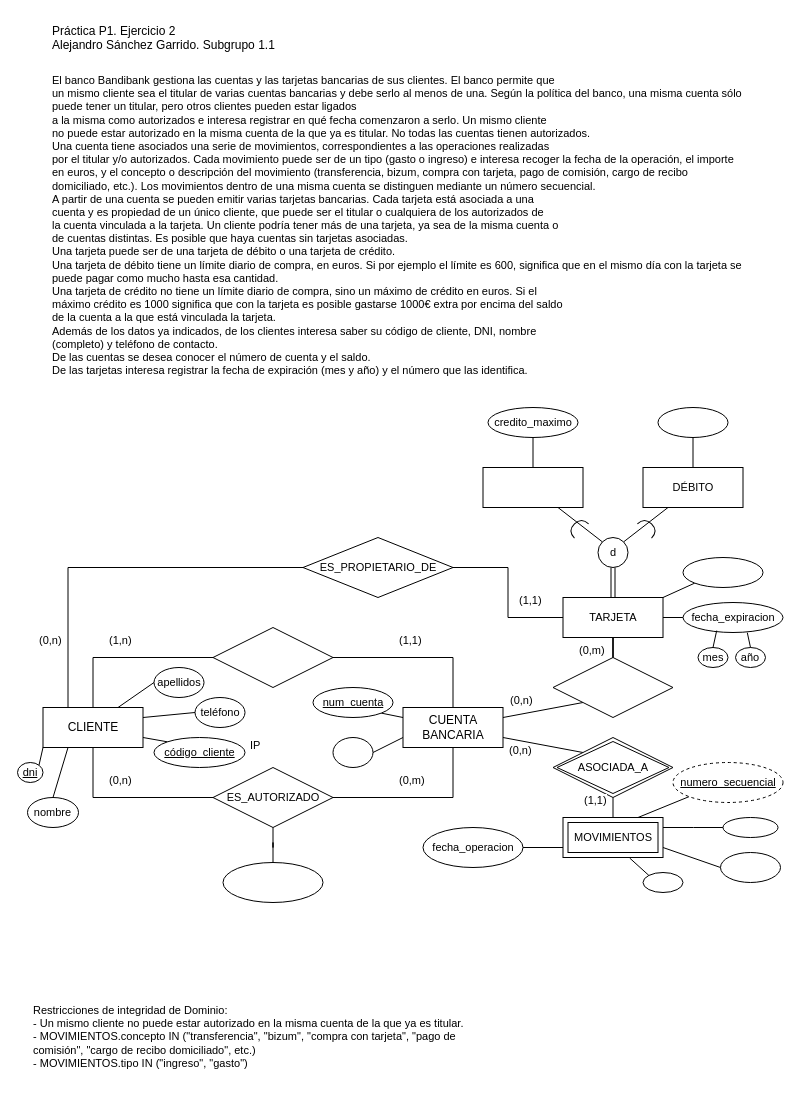
This 801x1107 diagram has some shape labels left out. Each missing label, with the box of its shape:
concepto: (720, 852, 780, 882)
CRÉDITO: (482, 466, 583, 508)
EMITIR: (552, 656, 673, 718)
fecha_autorizacion: (222, 862, 323, 902)
importe: (722, 816, 778, 838)
limite_diario: (657, 406, 728, 438)
num_tarjeta: (682, 556, 763, 588)
saldo: (332, 736, 373, 768)
tipo: (642, 872, 683, 892)
TITULAR: (212, 626, 333, 688)
